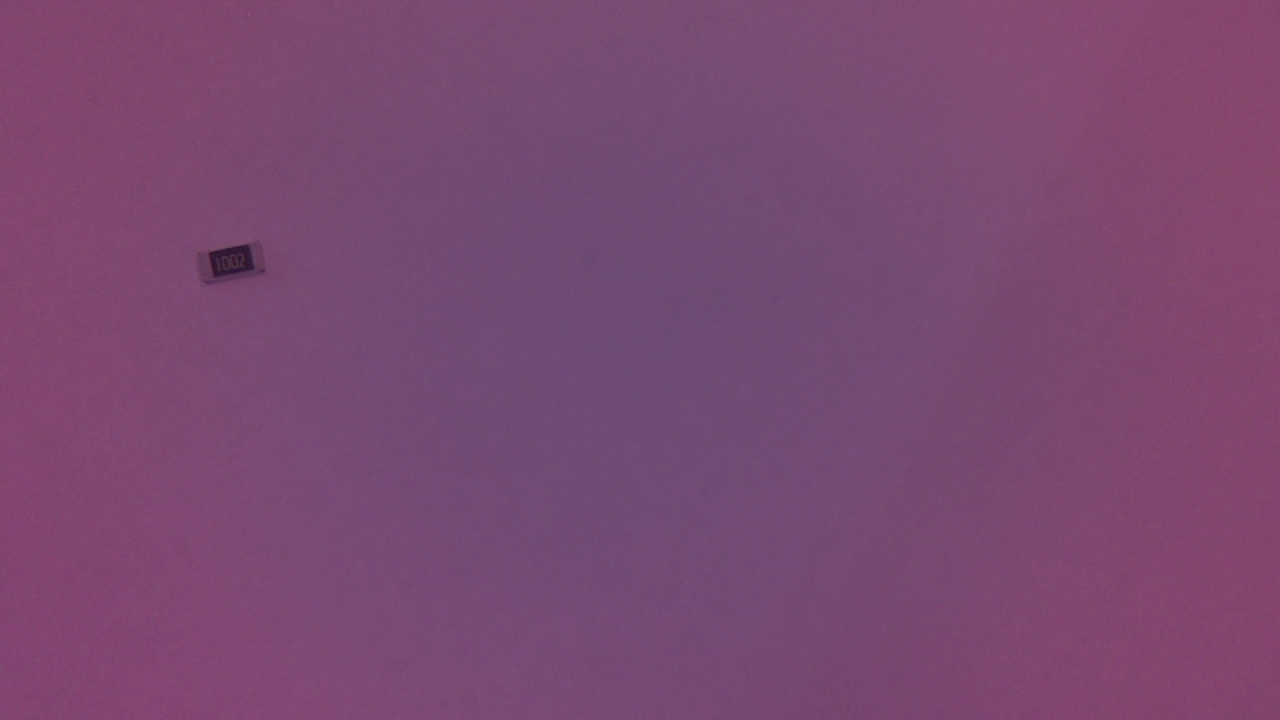Resistor: (196, 239, 277, 295)
